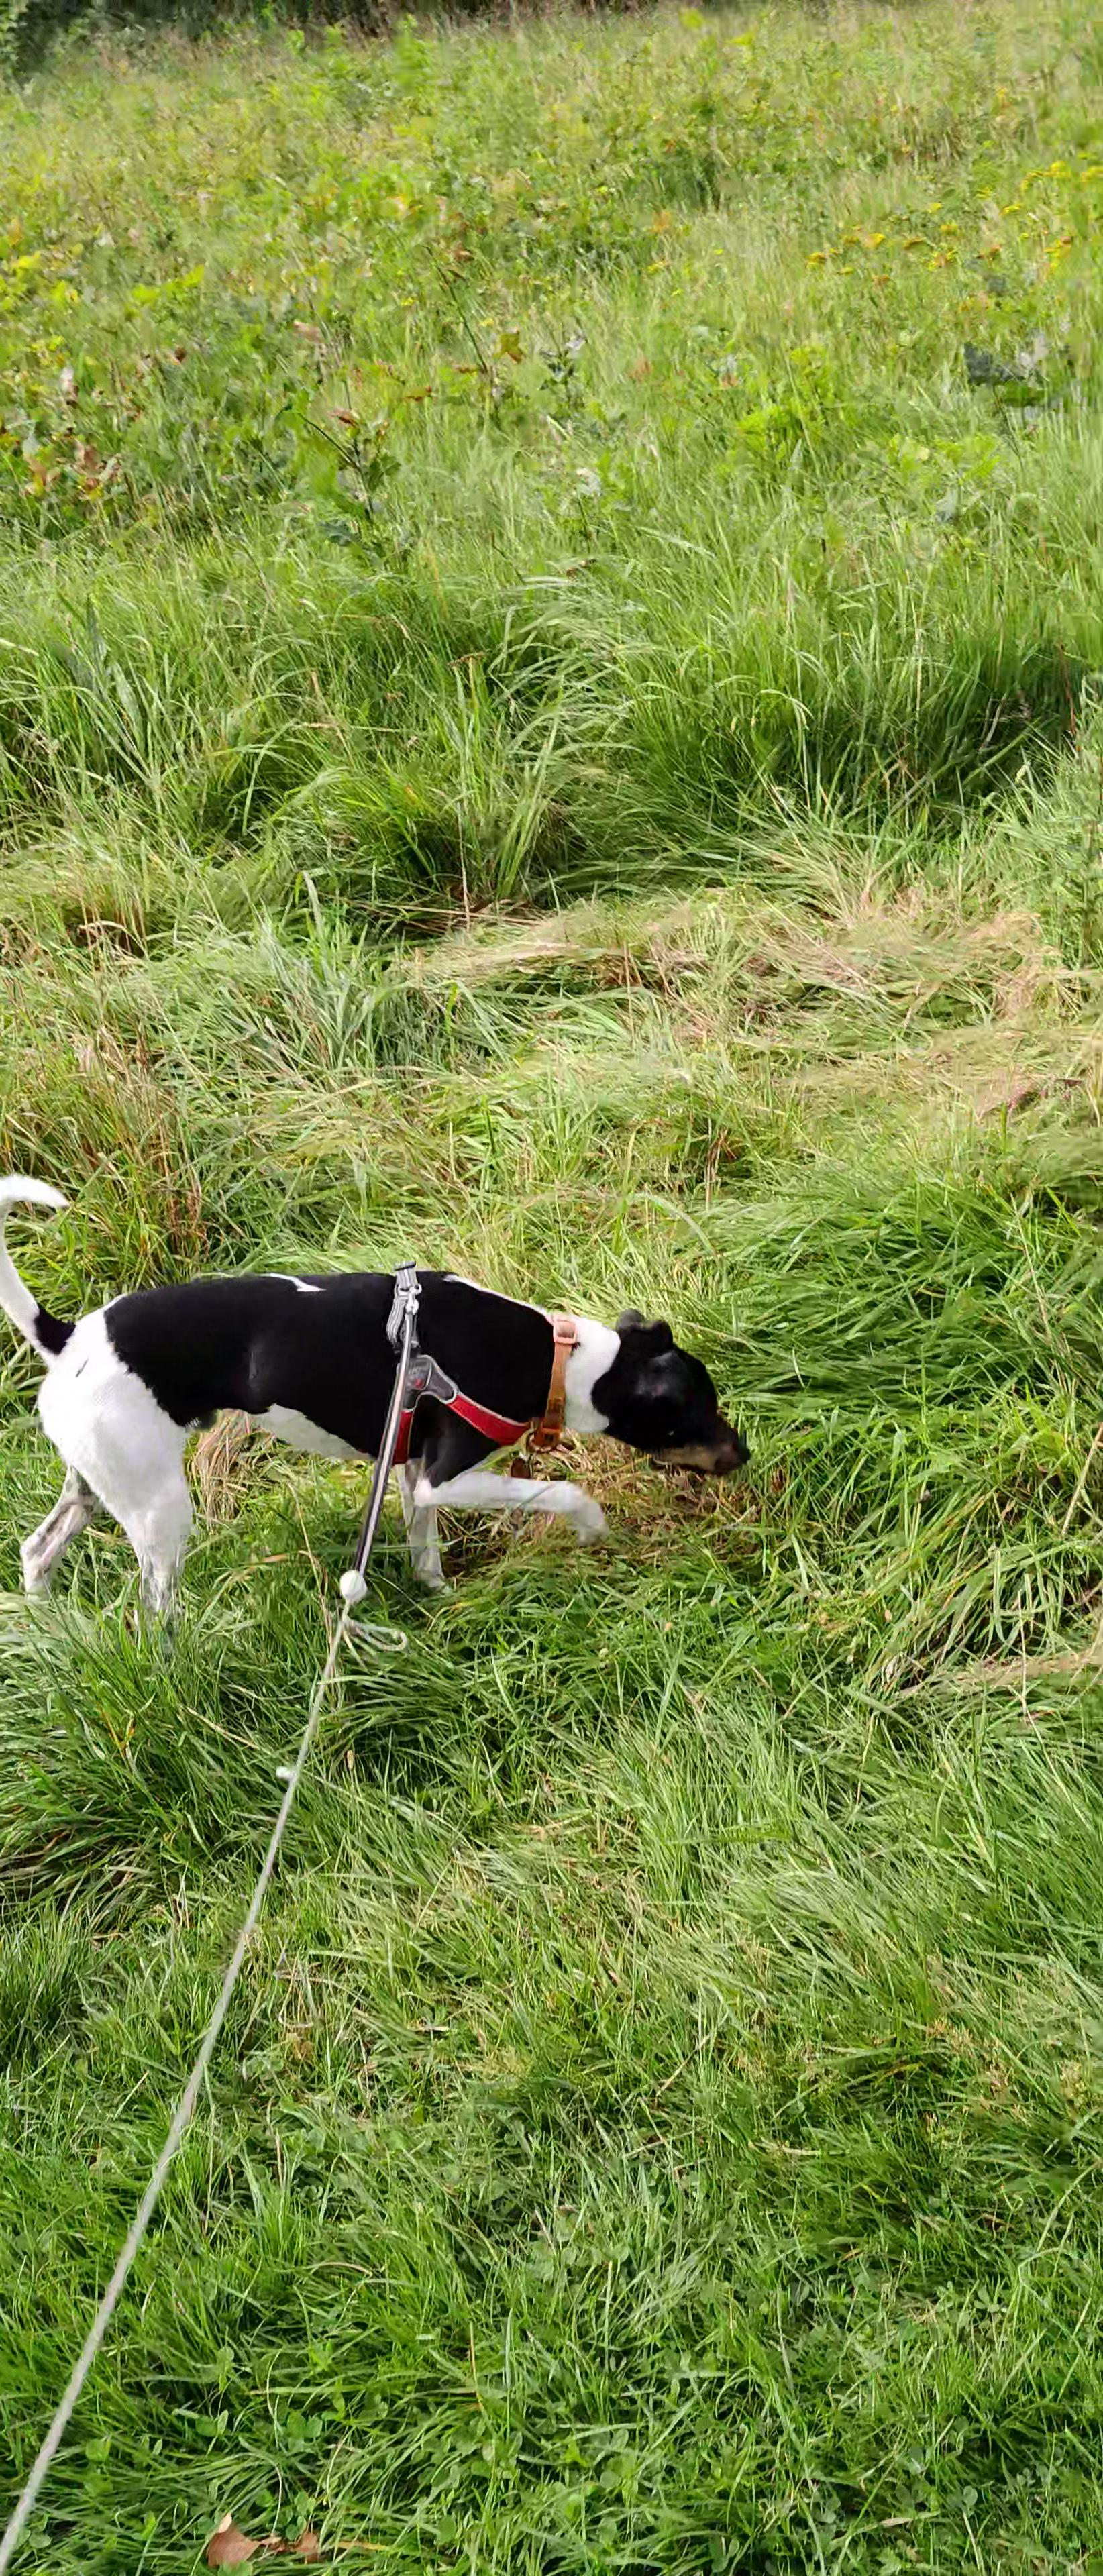Dog: (0, 1147, 771, 1636)
